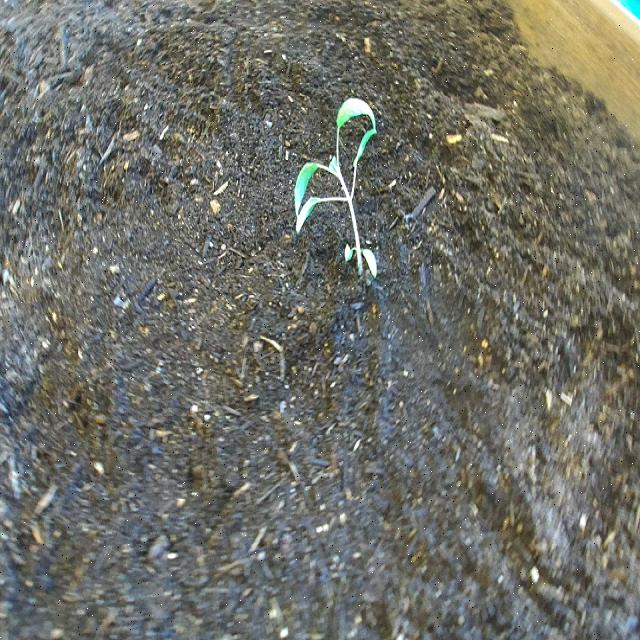Healthy: (289, 90, 386, 288)
